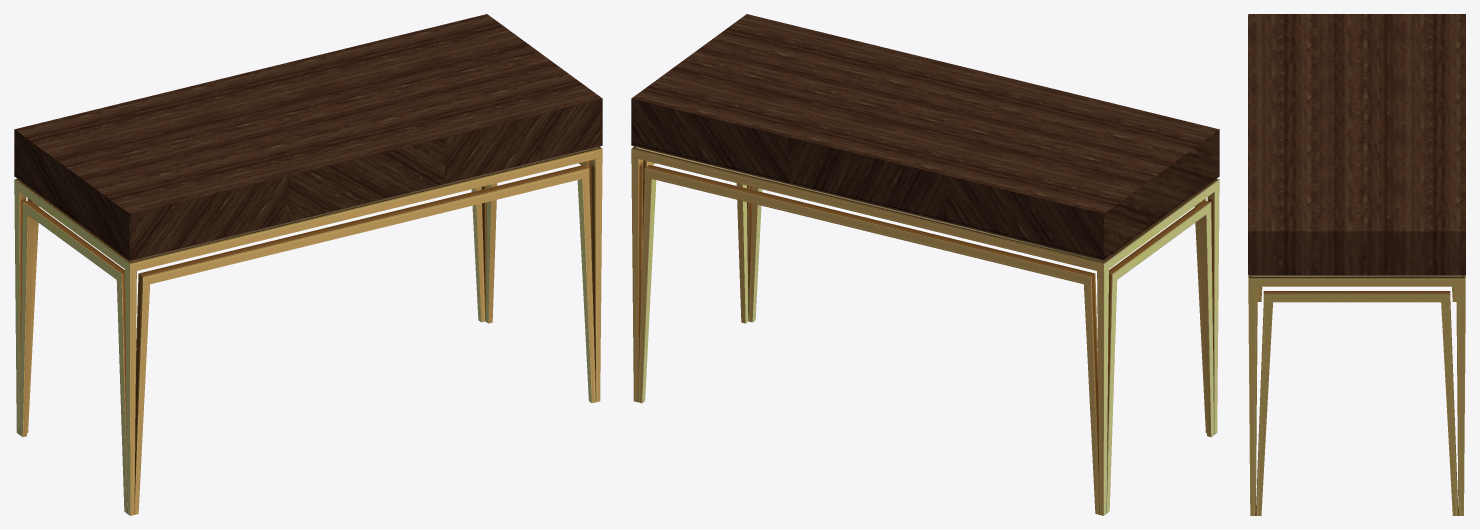
Rendered from keely_console_table.fbx.
3 renders of one model, left to right at view 1: azimuth 30°, elevation 25°; view 2: azimuth 150°, elevation 25°; view 3: azimuth 270°, elevation 25°, orthographic. The views are drawn at different scales.
Parts seen in each view (by area): view 1: Keely Console Table; view 2: Keely Console Table; view 3: Keely Console Table.
Boxes of the visible parts, <box> form: Keely Console Table: <box>14,14,602,515</box>; Keely Console Table: <box>631,14,1219,515</box>; Keely Console Table: <box>1248,14,1465,515</box>.
Bounding box in the file's own units: 1.47 × 0.899 × 0.6215.
